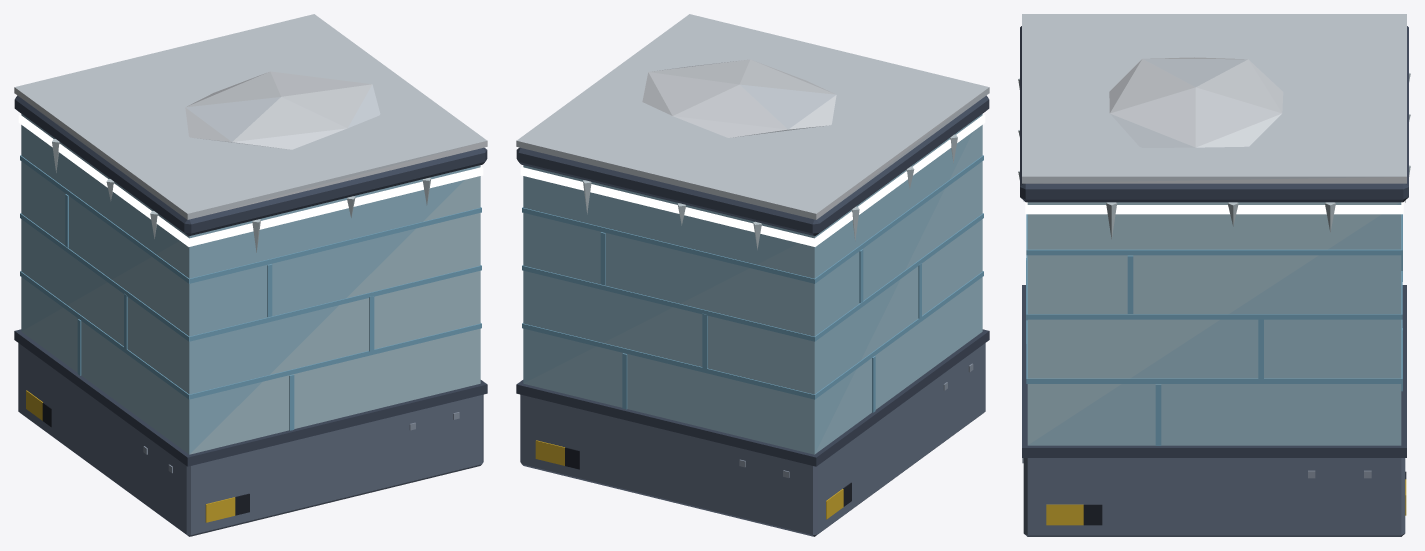
The model's file is kit-arctic-wall.glb.
3 renders of one model, left to right at view 1: azimuth 30°, elevation 25°; view 2: azimuth 150°, elevation 25°; view 3: azimuth 270°, elevation 25°, orthographic. The views are drawn at different scales.
Parts seen in each view (by area): view 1: kit-arctic-wall; view 2: kit-arctic-wall; view 3: kit-arctic-wall.
Boxes of the visible parts, x1,y1,x2,y2 form: kit-arctic-wall: (14,14,487,536); kit-arctic-wall: (516,14,989,536); kit-arctic-wall: (1018,14,1410,536).
Size of the model in its own units: 2.1 by 2.26 by 2.1.
